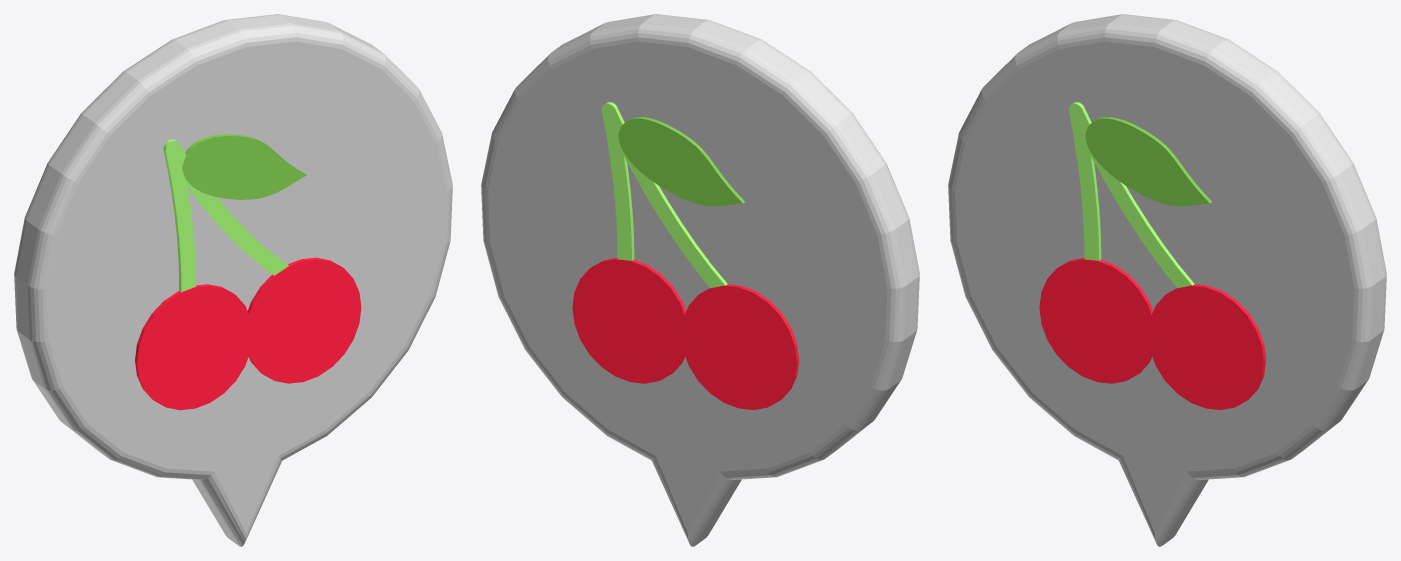
File: cherries.glb
The picture shows the model from 3 angles, left to right: view 1: azimuth 30°, elevation 25°; view 2: azimuth 150°, elevation 25°; view 3: azimuth 330°, elevation 25°; orthographic projection.
Visible parts, largest first — view 1: EmotionBubble; view 2: EmotionBubble; view 3: EmotionBubble.
Part boxes in pixels (box(x1,y1,x2,y2)): EmotionBubble: box(14, 14, 452, 546); EmotionBubble: box(481, 14, 919, 546); EmotionBubble: box(948, 14, 1386, 546).
Bounding box in the file's own units: 5.29 × 6.16 × 0.688.
